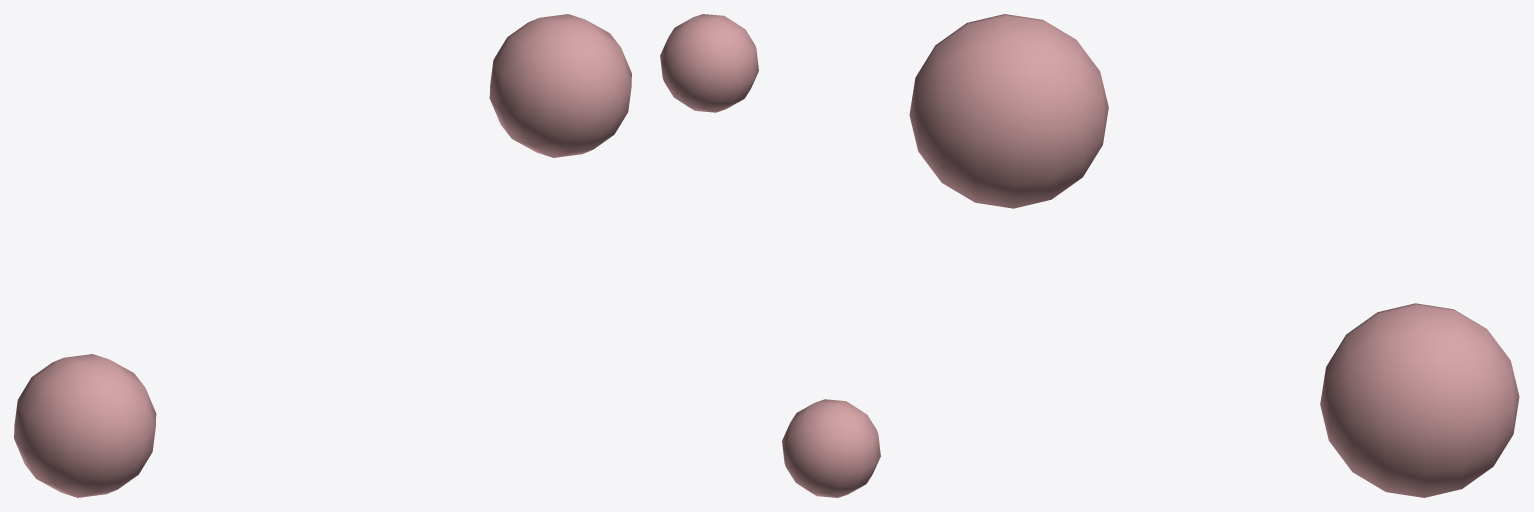
3 views of the same model, side by side, from view 1: azimuth 30°, elevation 25°; view 2: azimuth 150°, elevation 25°; view 3: azimuth 270°, elevation 25° (orthographic). The views are drawn at different scales.
Visible parts, largest first — view 1: ZA_82961a1c3e30c9b8; view 2: ZA_82961a1c3e30c9b8; view 3: ZA_82961a1c3e30c9b8.
Part boxes in pixels (x1=…): ZA_82961a1c3e30c9b8: x1=14, y1=14, x2=631, y2=497; ZA_82961a1c3e30c9b8: x1=660, y1=14, x2=880, y2=497; ZA_82961a1c3e30c9b8: x1=909, y1=14, x2=1519, y2=497.
Size of the model in its own units: 0.00932 by 0.00988 by 0.00795.
